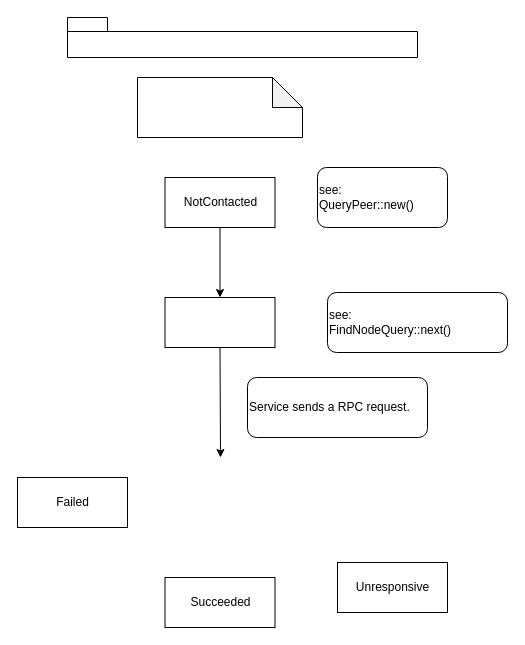
This 525x645 diagram has some shape labels left out. The shapes that lost their labels are listed below. From the top down, each one's box as (x1, y1, x2, y2) in pixels, then its label:
(66, 16, 418, 58): <package> query_pool::peers::closest
(136, 76, 302, 138): QueryPeerState
(164, 296, 275, 348): Waiting
